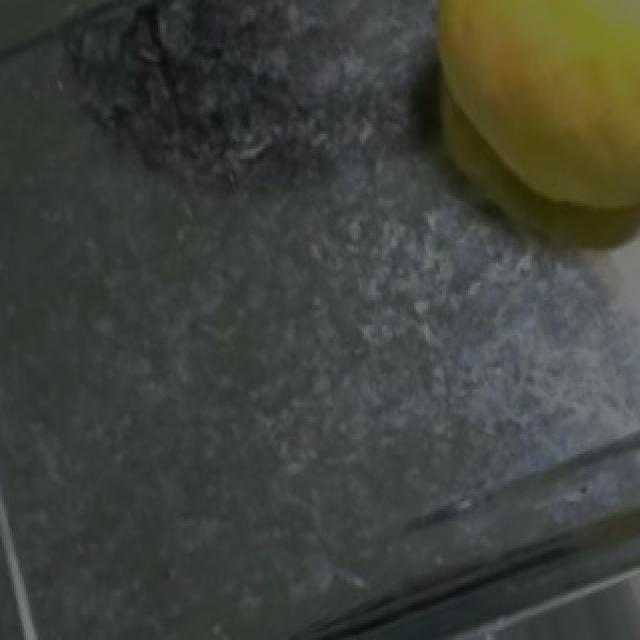fruit: (390, 0, 640, 273)
